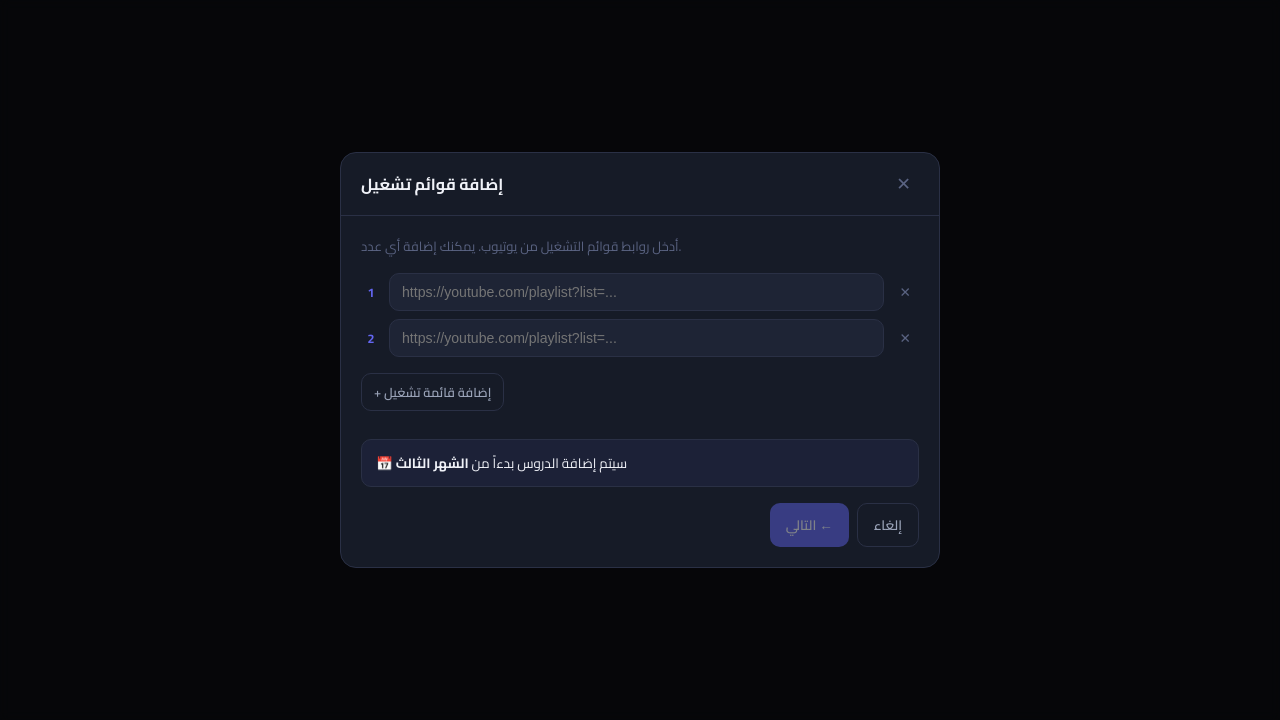
Test: AddPlaylistsModal › fetches playlists and transitions to step 2 on valid input
Type "https://www.youtube.com/playlist?list=PLA" into the 1st field with placeholder "https://youtube.com/playlist?list=..." at (636, 292), box [389,273,884,311]
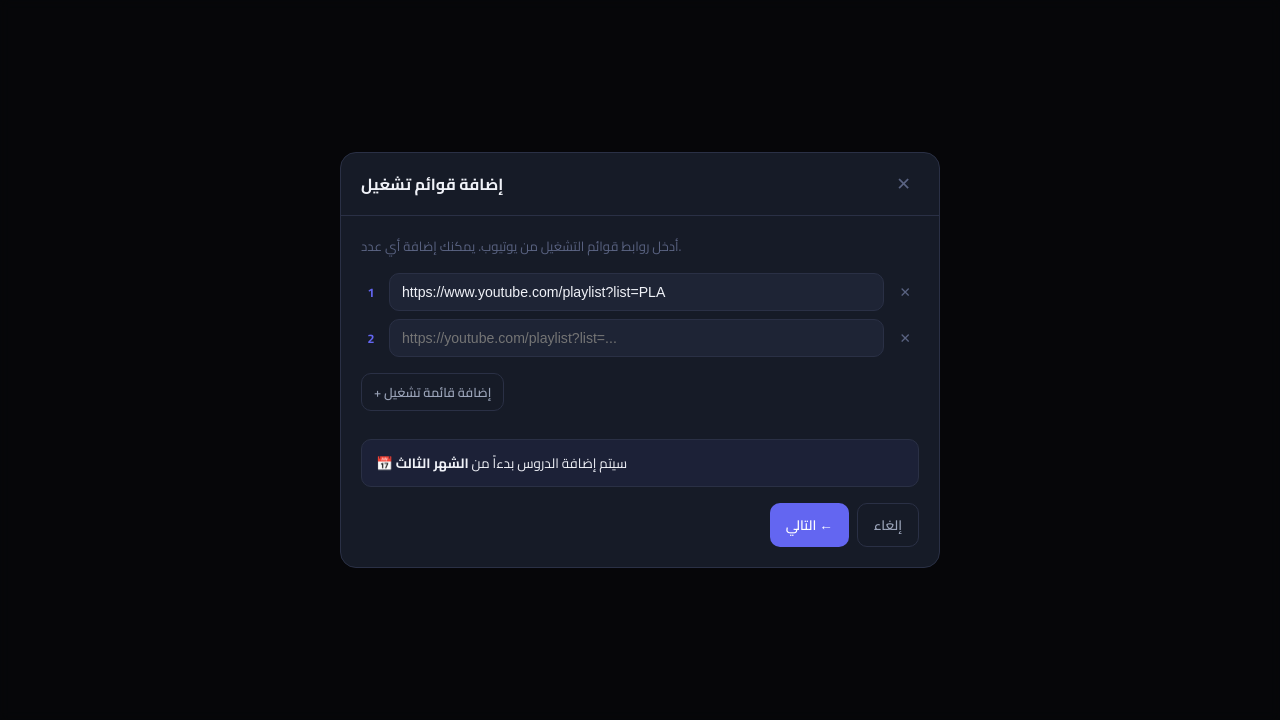
Type "https://www.youtube.com/playlist?list=PLB" into the field with placeholder "https://youtube.com/playlist?list=..." at (636, 338), box [389,319,884,357]
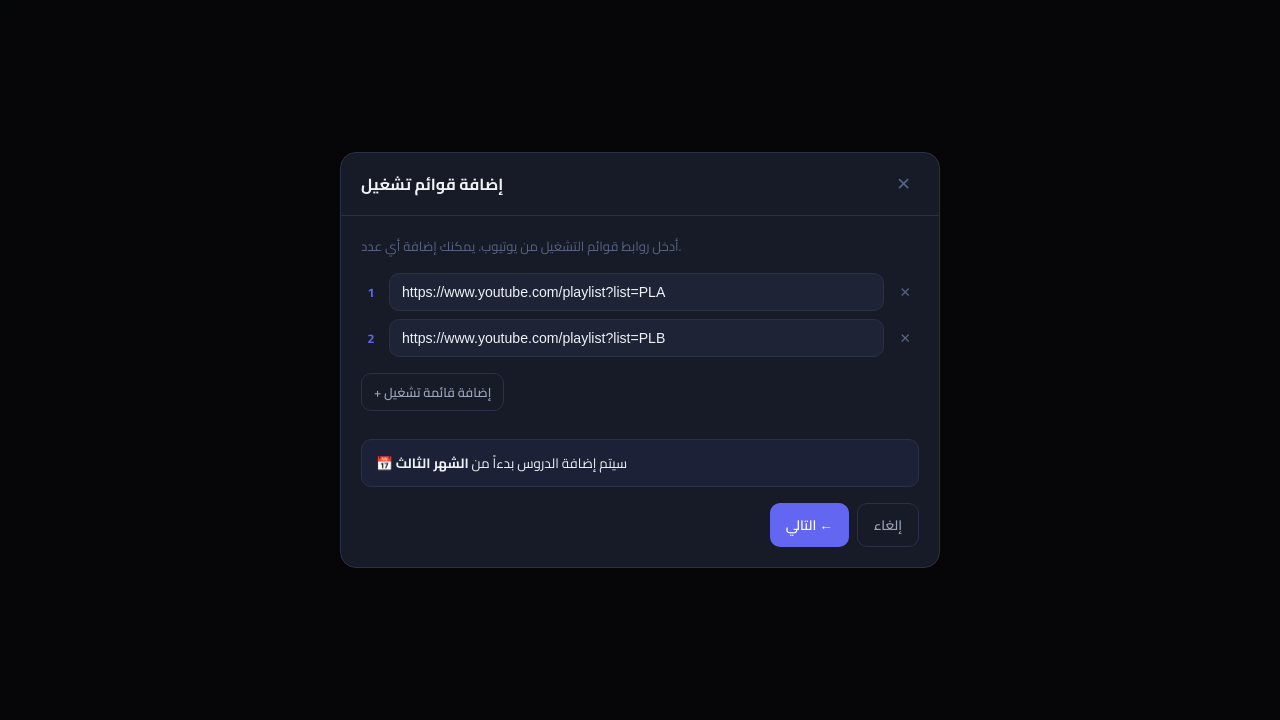
Click the button "التالي ←" at (809, 525), box [770,503,849,547]
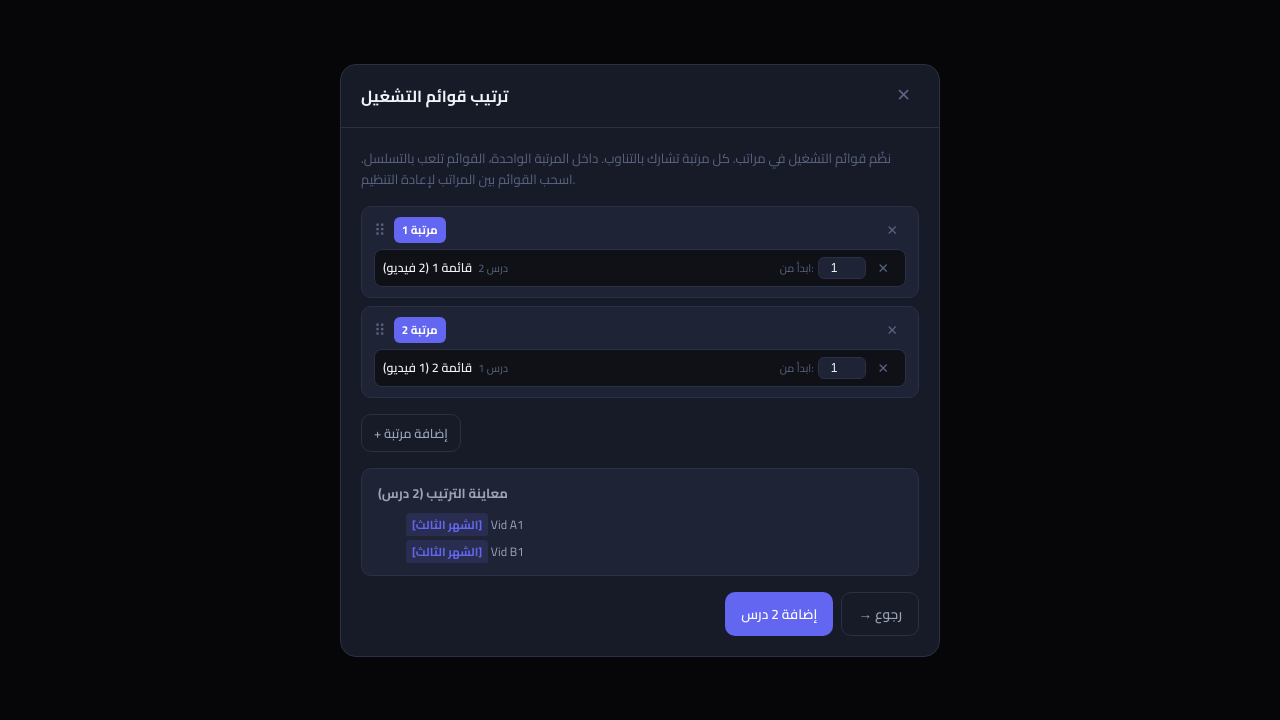
Check: the heading "ترتيب قوائم التشغيل" is shown, box [361,80,508,110]
Check: the text "مرتبة 1" is shown, box [394,216,446,242]
Check: the text "مرتبة 2" is shown, box [394,316,446,342]
